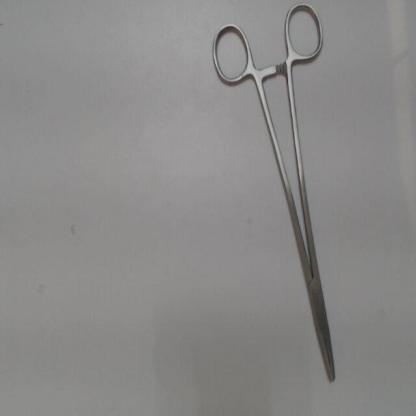8 Mayo Needle Holder: (203, 1, 346, 395)
